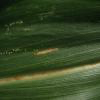Corn Gray leaf spot: (11, 23, 99, 98)
